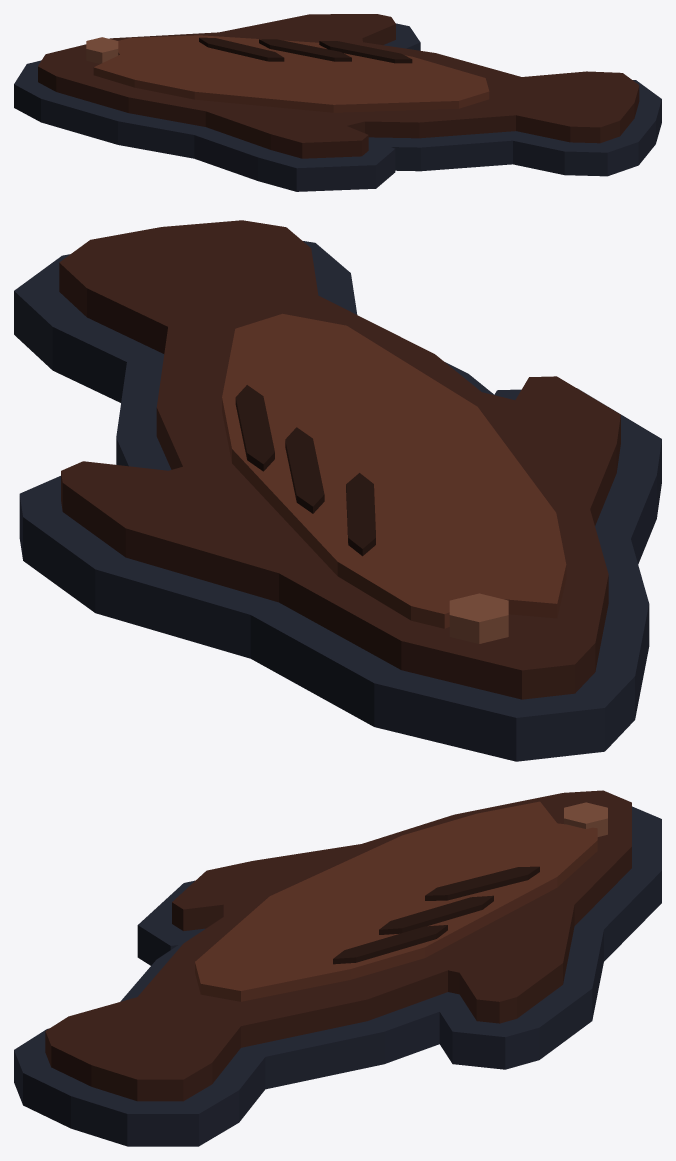
Rendered from cooked_fish.fbx.
3 views of the same model, one above another, from view 1: azimuth 30°, elevation 25°; view 2: azimuth 150°, elevation 25°; view 3: azimuth 270°, elevation 25° (orthographic). The views are drawn at different scales.
Visible parts, largest first — view 1: cooked_fish; view 2: cooked_fish; view 3: cooked_fish.
Part boxes in pixels (x1,y1,x2,y2): cooked_fish: [14, 14, 661, 191]; cooked_fish: [14, 220, 661, 761]; cooked_fish: [14, 790, 661, 1146].
Size of the model in its own units: 1.25 by 0.13 by 1.08.
Materials: 1 (1 with a texture image).
